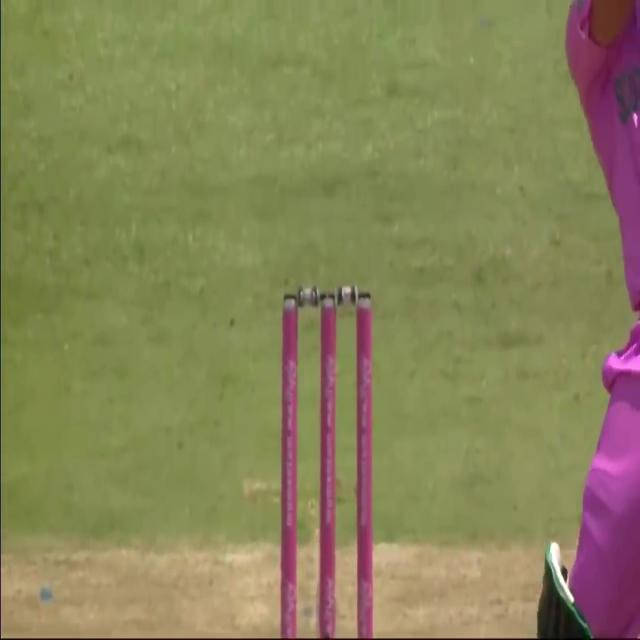Ball: (538, 1, 640, 637)
